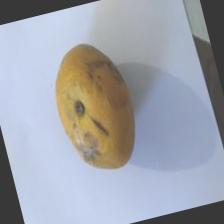Orange Rotten: (34, 22, 166, 191)
